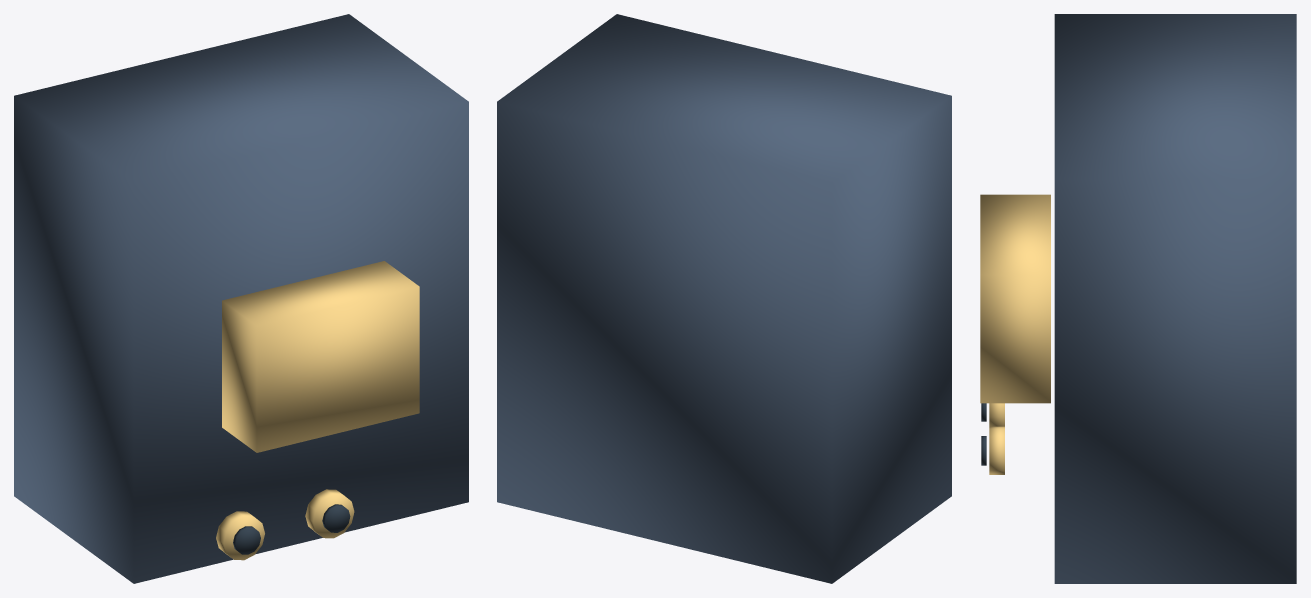
The model's file is 67_L90_PPUPrechargeContactor.glb.
3 renders of one model, left to right at view 1: azimuth 30°, elevation 25°; view 2: azimuth 150°, elevation 25°; view 3: azimuth 270°, elevation 25°, orthographic.
Visible parts, largest first — view 1: L90_PPUPrechargeContactor, L90_PPUPrechargeContactor_Part_0001, L90_PPUPrechargeContactor_Part_0002, L90_PPUPrechargeContactor_Part_0004, L90_PPUPrechargeContactor_Part_0003, L90_PPUPrechargeContactor_Part_0005; view 2: L90_PPUPrechargeContactor; view 3: L90_PPUPrechargeContactor, L90_PPUPrechargeContactor_Part_0001, L90_PPUPrechargeContactor_Part_0004.
Part boxes in pixels (x1,y1,x2,y2): L90_PPUPrechargeContactor: [14, 14, 468, 583]; L90_PPUPrechargeContactor_Part_0001: [222, 261, 419, 452]; L90_PPUPrechargeContactor_Part_0002: [216, 511, 264, 560]; L90_PPUPrechargeContactor_Part_0004: [305, 489, 354, 538]; L90_PPUPrechargeContactor_Part_0003: [233, 526, 260, 554]; L90_PPUPrechargeContactor_Part_0005: [322, 504, 350, 532]; L90_PPUPrechargeContactor: [497, 14, 951, 583]; L90_PPUPrechargeContactor: [1054, 14, 1296, 583]; L90_PPUPrechargeContactor_Part_0001: [980, 194, 1050, 403]; L90_PPUPrechargeContactor_Part_0004: [989, 426, 1004, 474].
Bounding box in the file's own units: 1.05 × 1.2 × 0.85.
